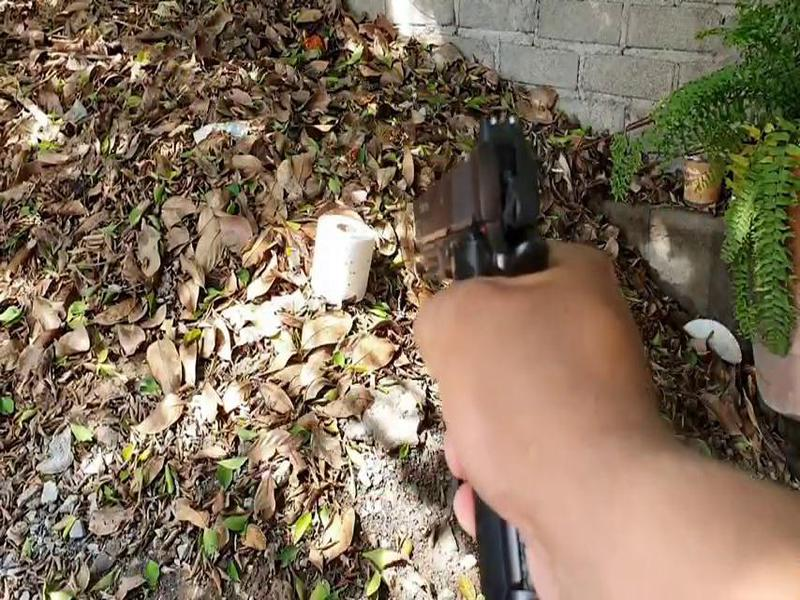Pistola: (370, 116, 616, 588)
